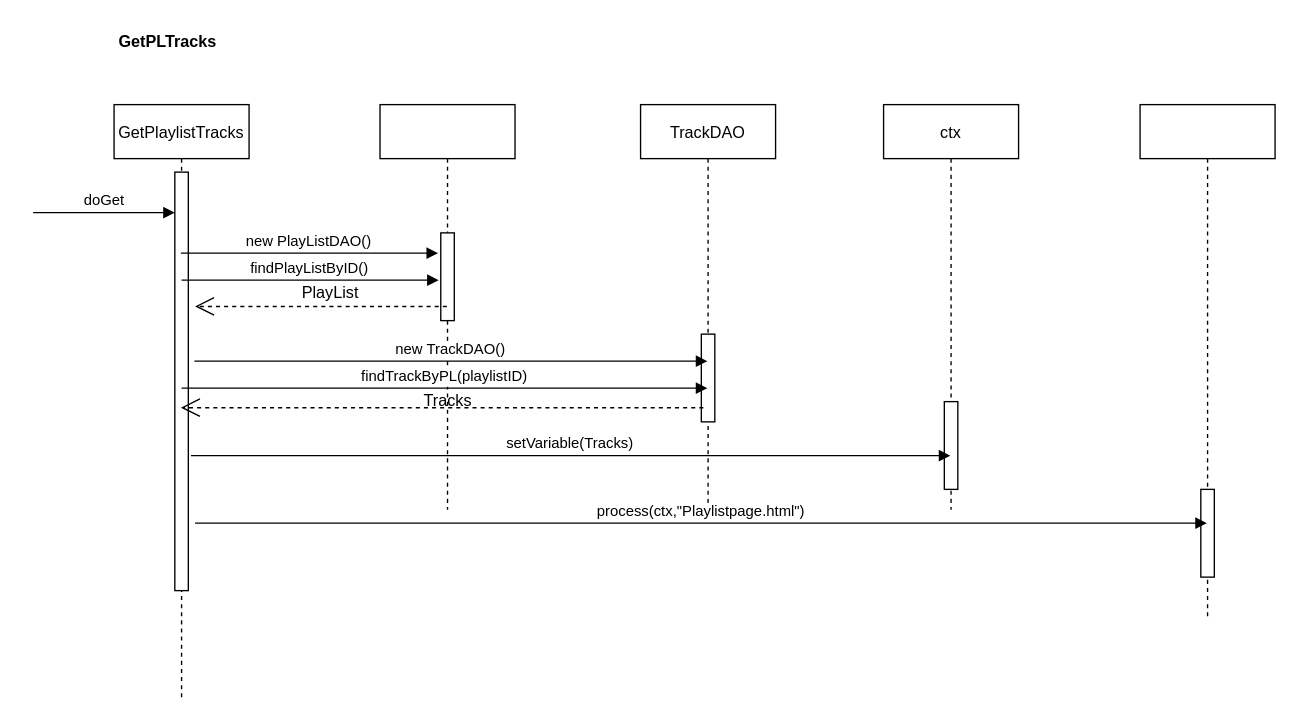
This 1299x722 diagram has some shape labels left out. Each missing label, with the box of its shape:
PlayListDAO: (379, 103, 515, 510)
Template Engine: (1139, 103, 1275, 618)
